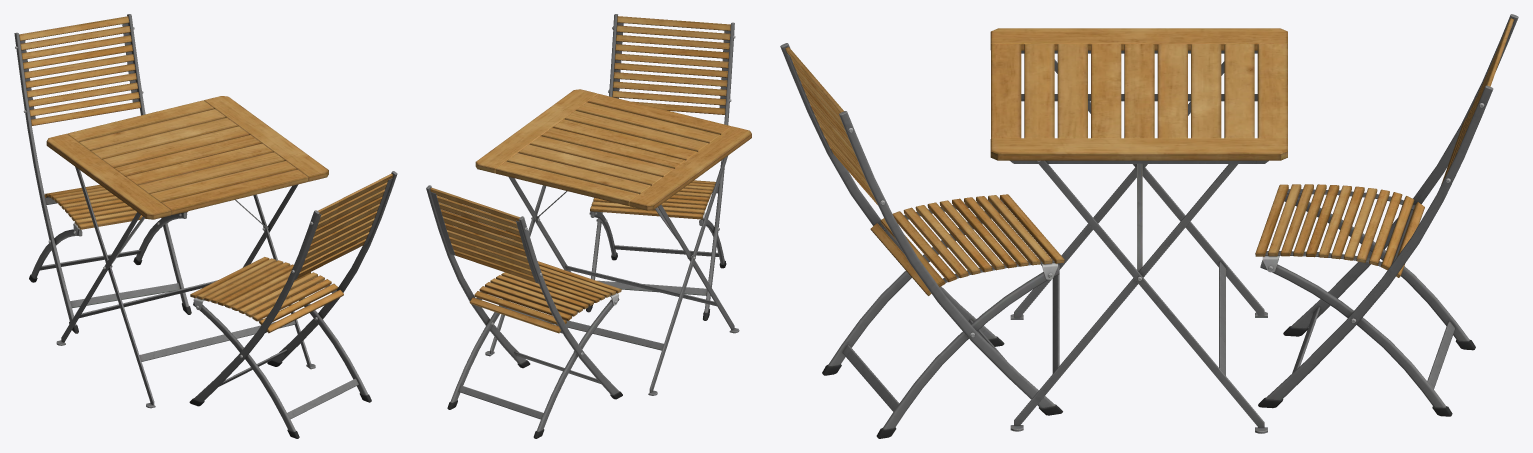
The model's file is outdoor_table_chair_set_01.glb.
3 renders of one model, left to right at view 1: azimuth 30°, elevation 25°; view 2: azimuth 150°, elevation 25°; view 3: azimuth 270°, elevation 25°, orthographic. The views are drawn at different scales.
Parts seen in each view (by area): view 1: outdoor_table_chair_set_01_table, outdoor_table_chair_set_01_chair_02, outdoor_table_chair_set_01_chair_01; view 2: outdoor_table_chair_set_01_table, outdoor_table_chair_set_01_chair_02, outdoor_table_chair_set_01_chair_01; view 3: outdoor_table_chair_set_01_table, outdoor_table_chair_set_01_chair_01, outdoor_table_chair_set_01_chair_02.
Part boxes in pixels (x1,y1,x2,y2): outdoor_table_chair_set_01_table: (46,96,328,408); outdoor_table_chair_set_01_chair_02: (14,14,191,333); outdoor_table_chair_set_01_chair_01: (189,171,397,438); outdoor_table_chair_set_01_table: (475,89,751,395); outdoor_table_chair_set_01_chair_02: (426,185,622,438); outdoor_table_chair_set_01_chair_01: (586,14,735,320); outdoor_table_chair_set_01_table: (990,28,1287,433); outdoor_table_chair_set_01_chair_01: (780,43,1064,438); outdoor_table_chair_set_01_chair_02: (1255,14,1518,416).
Size of the model in its own units: 0.7417 by 0.8586 by 1.72.
2 materials, 2 textured.
